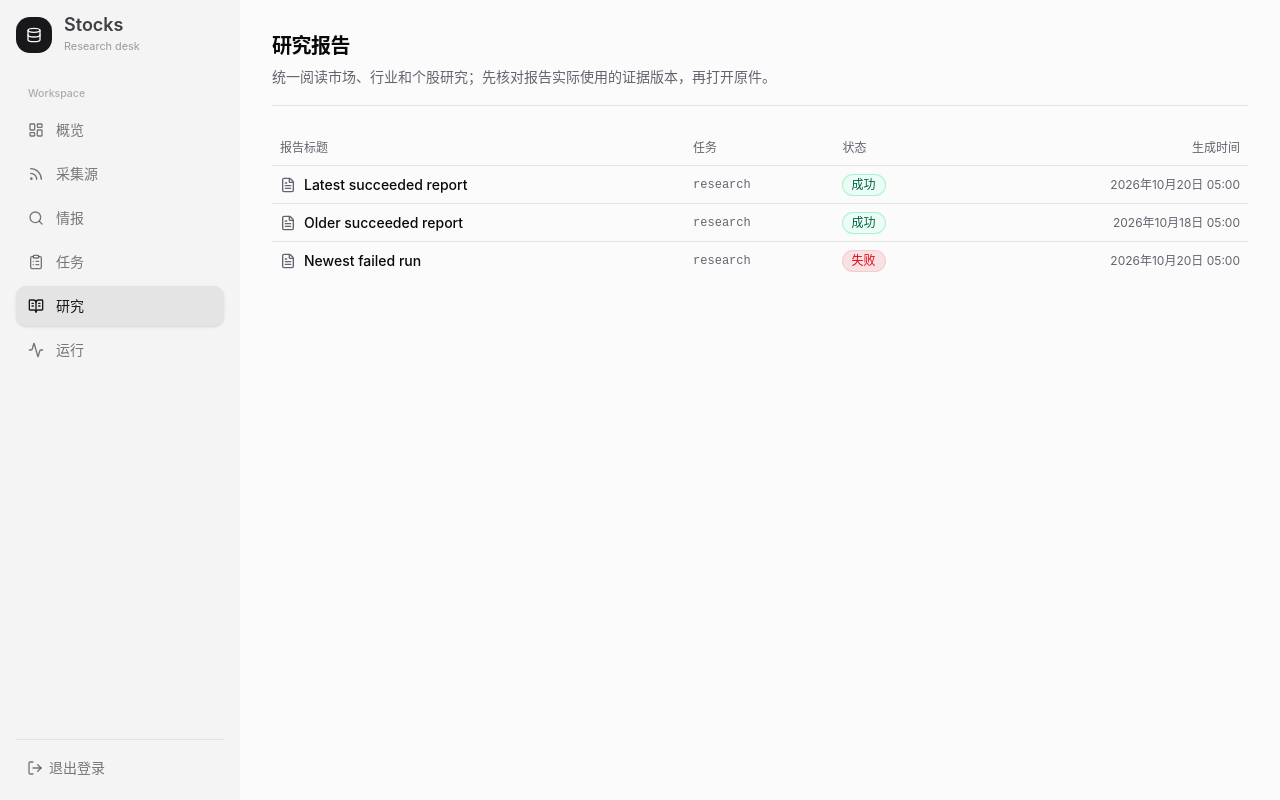
it: ResearchPage list › renders the report table and opens the detail page on row click
Expected: the text "Latest succeeded report" is shown, [304,176,468,193]
Expected: the text "Older succeeded report" is shown, [304,214,463,231]
Click the button with aria-label "打开报告 Older succeeded report". click: (384, 222)
box: [280,213,677,233]
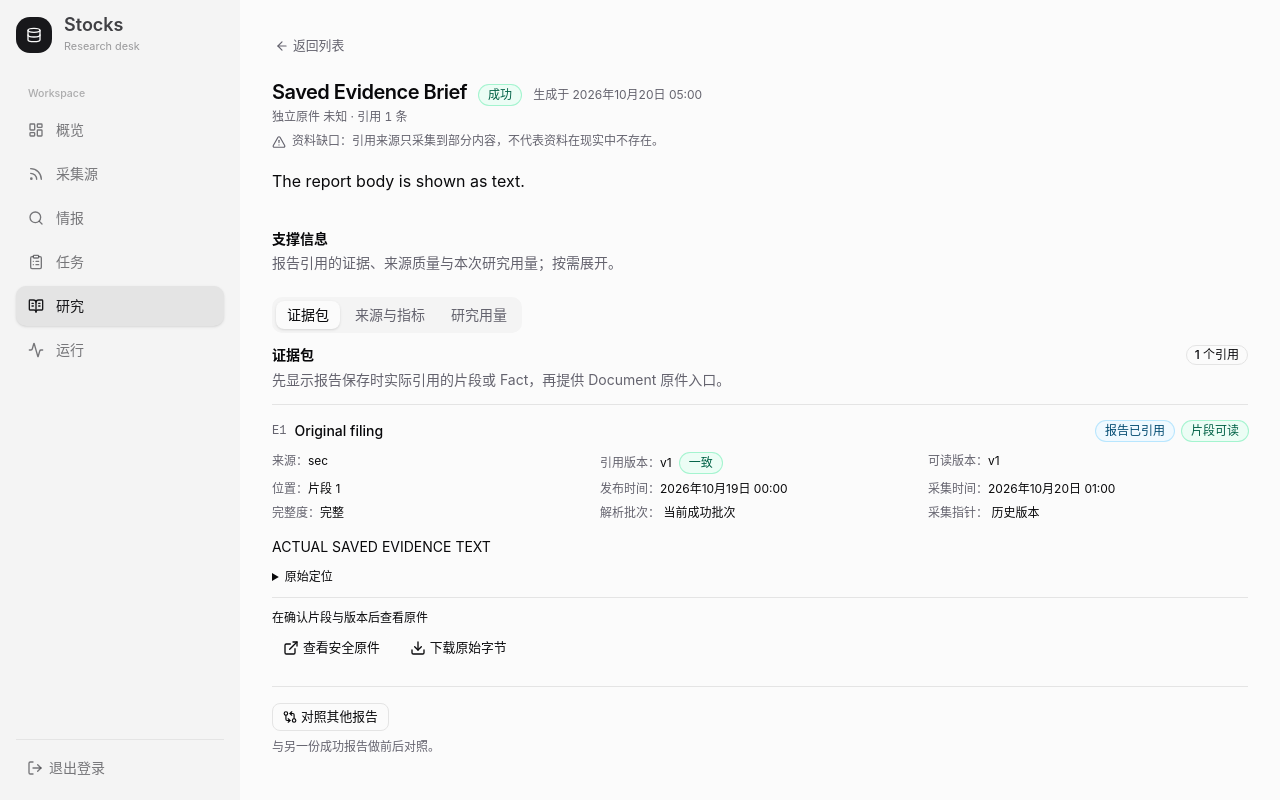
Expected: the text "The report body is shown as text." is shown, [272,171,525,191]
